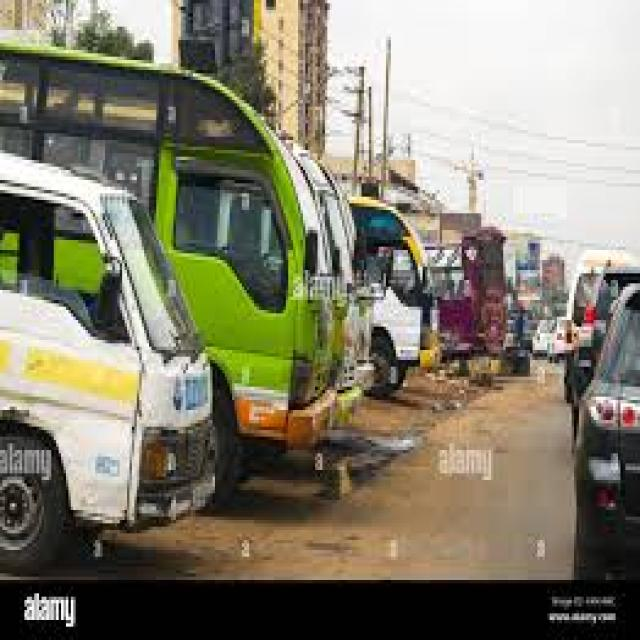bus: (221, 57, 375, 452)
matatu: (0, 146, 218, 568)
